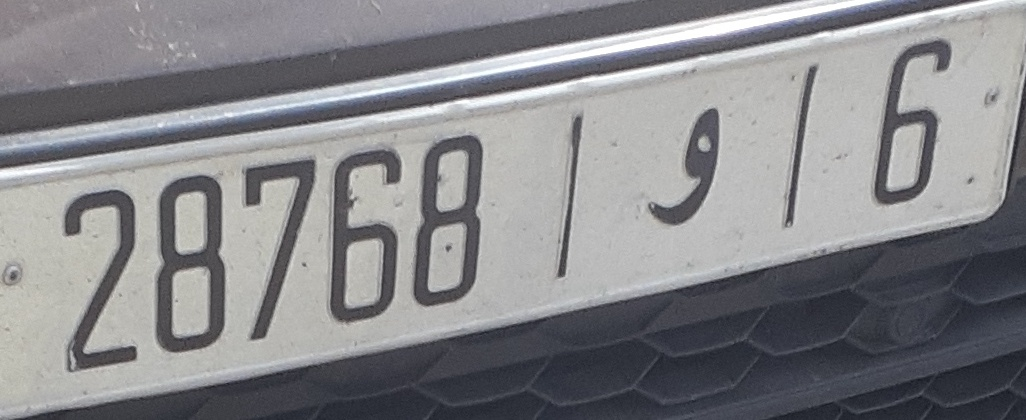2: (57, 185, 144, 373)
6: (870, 32, 957, 207), (328, 148, 403, 326)
7: (238, 159, 319, 344)
8: (151, 172, 231, 355), (410, 133, 486, 310)
waw: (636, 105, 728, 230)
